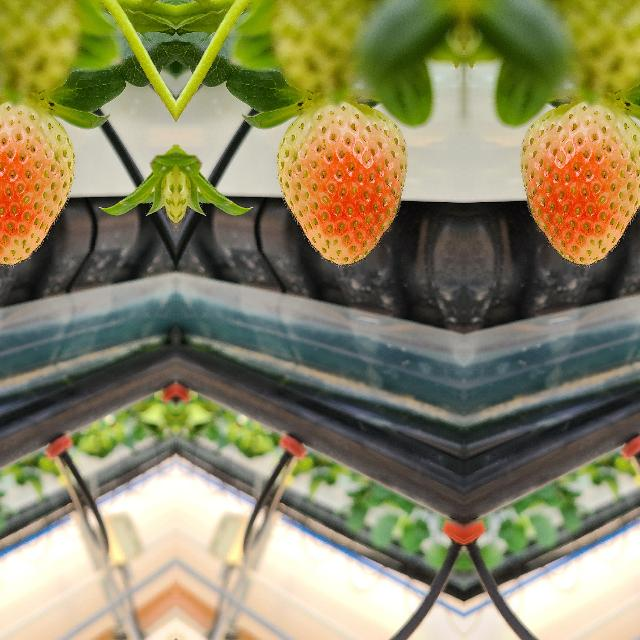Health_50: (275, 100, 407, 268), (519, 100, 640, 267), (0, 100, 75, 267)
